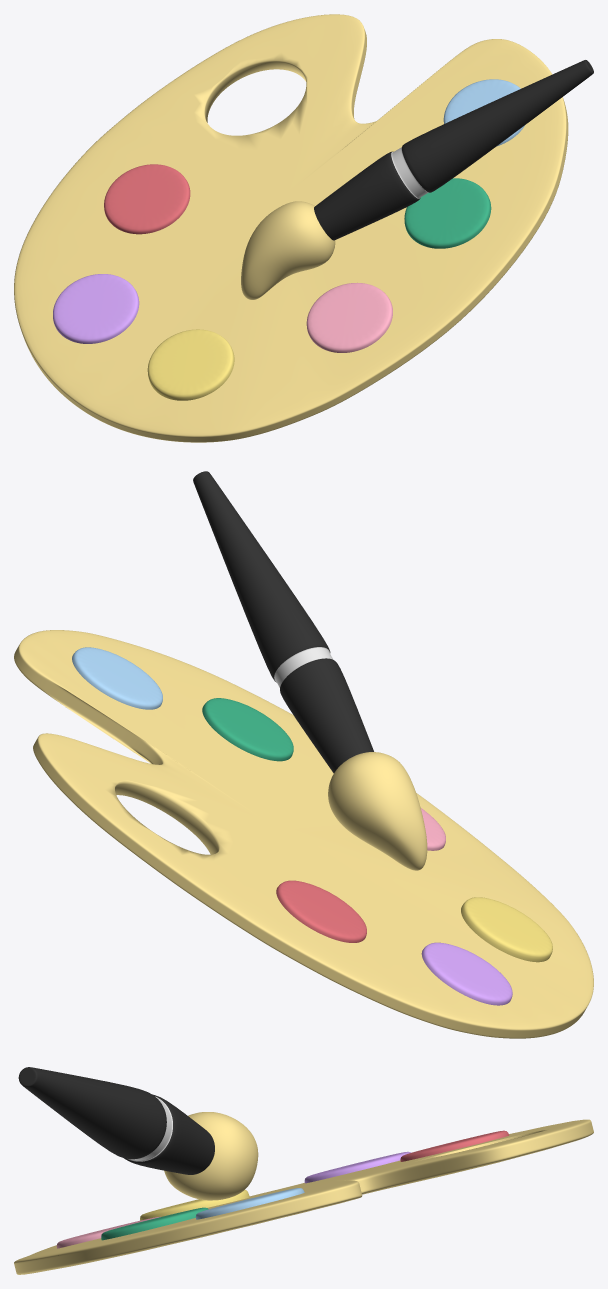
File: art.glb
3 renders of one model, top to bottom at view 1: azimuth 30°, elevation 25°; view 2: azimuth 150°, elevation 25°; view 3: azimuth 270°, elevation 25°, orthographic. The views are drawn at different scales.
Parts seen in each view (by area): view 1: brush; view 2: brush; view 3: brush.
Part boxes in pixels (x1,y1,x2,y2): brush: [14, 14, 593, 442]; brush: [14, 471, 593, 1038]; brush: [14, 1067, 593, 1274].
Size of the model in its own units: 1.85 by 1.18 by 1.54.
